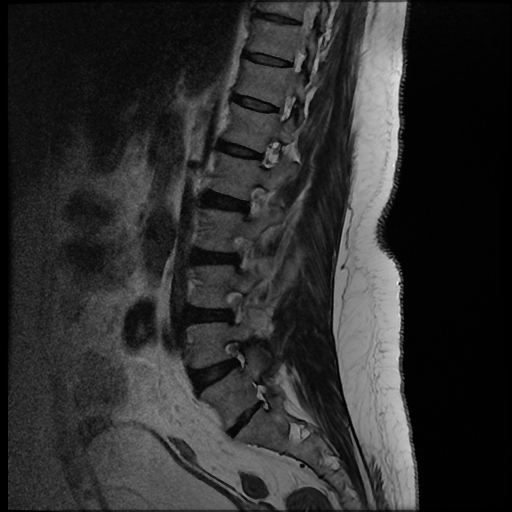RFS0: (216, 285, 255, 329), (218, 333, 253, 379)
